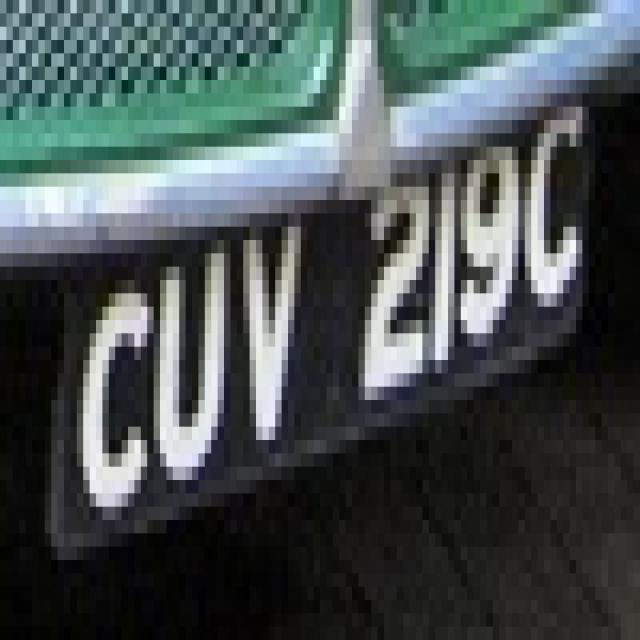licenseplate: (51, 90, 599, 560)
